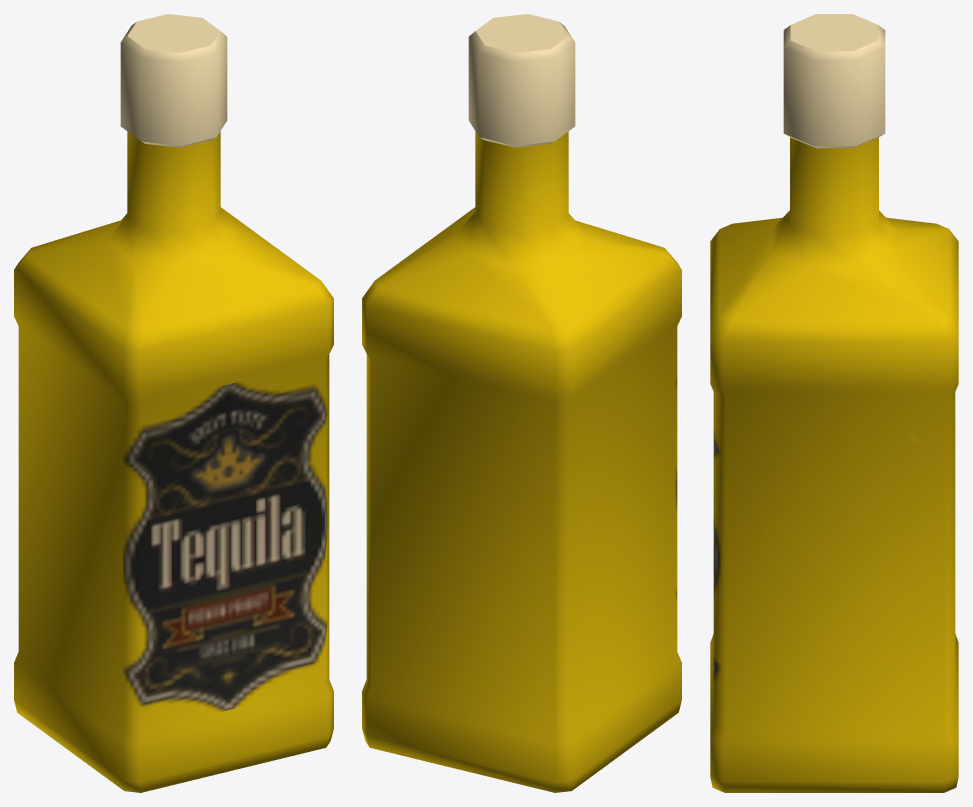
The model's file is Prop_Drink_Bottles_x4.fbx.
3 renders of one model, left to right at view 1: azimuth 30°, elevation 25°; view 2: azimuth 150°, elevation 25°; view 3: azimuth 270°, elevation 25°, orthographic. The views are drawn at different scales.
Visible parts, largest first — view 1: Prop_Drink_Bottles_x4; view 2: Prop_Drink_Bottles_x4; view 3: Prop_Drink_Bottles_x4.
Part boxes in pixels (x1,y1,x2,y2): Prop_Drink_Bottles_x4: (14, 14, 333, 792); Prop_Drink_Bottles_x4: (362, 14, 681, 792); Prop_Drink_Bottles_x4: (710, 14, 958, 792).
Bounding box in the file's own units: 4.19 × 13.28 × 4.19.
